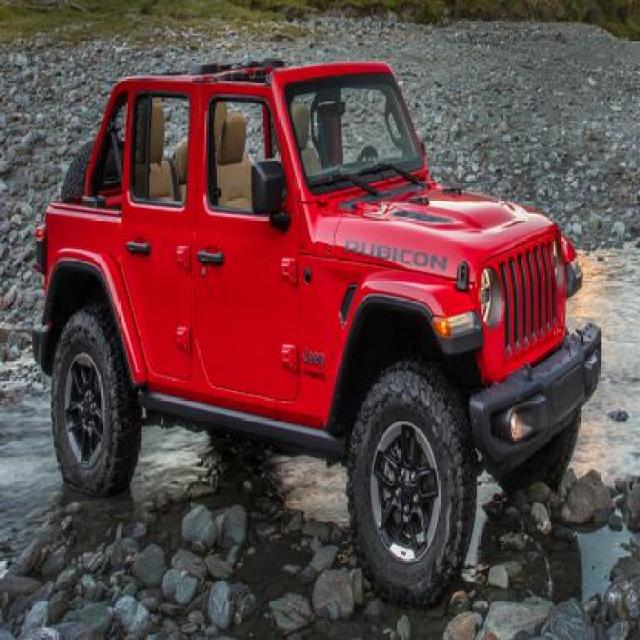Jeep: (25, 51, 604, 611)
